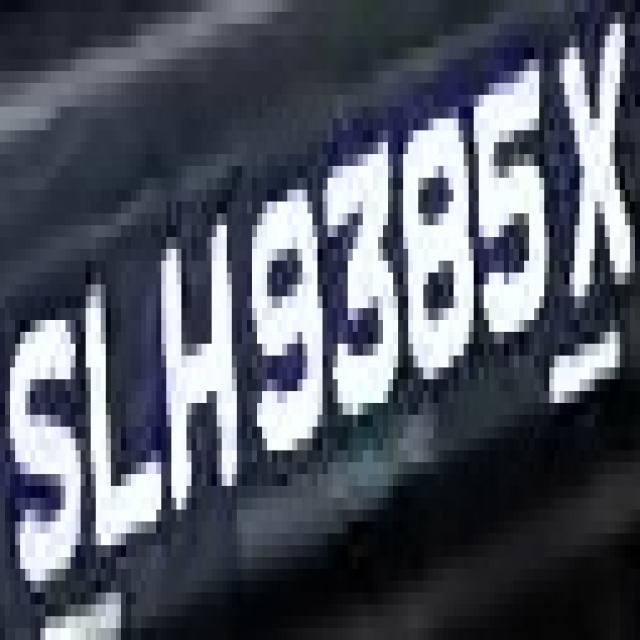3: (307, 142, 413, 415)
5: (454, 47, 564, 344)
8: (393, 48, 474, 462)
9: (237, 142, 327, 498)
H: (146, 190, 252, 557)
L: (76, 237, 171, 581)
S: (10, 237, 86, 593)
X: (554, 12, 625, 367)
